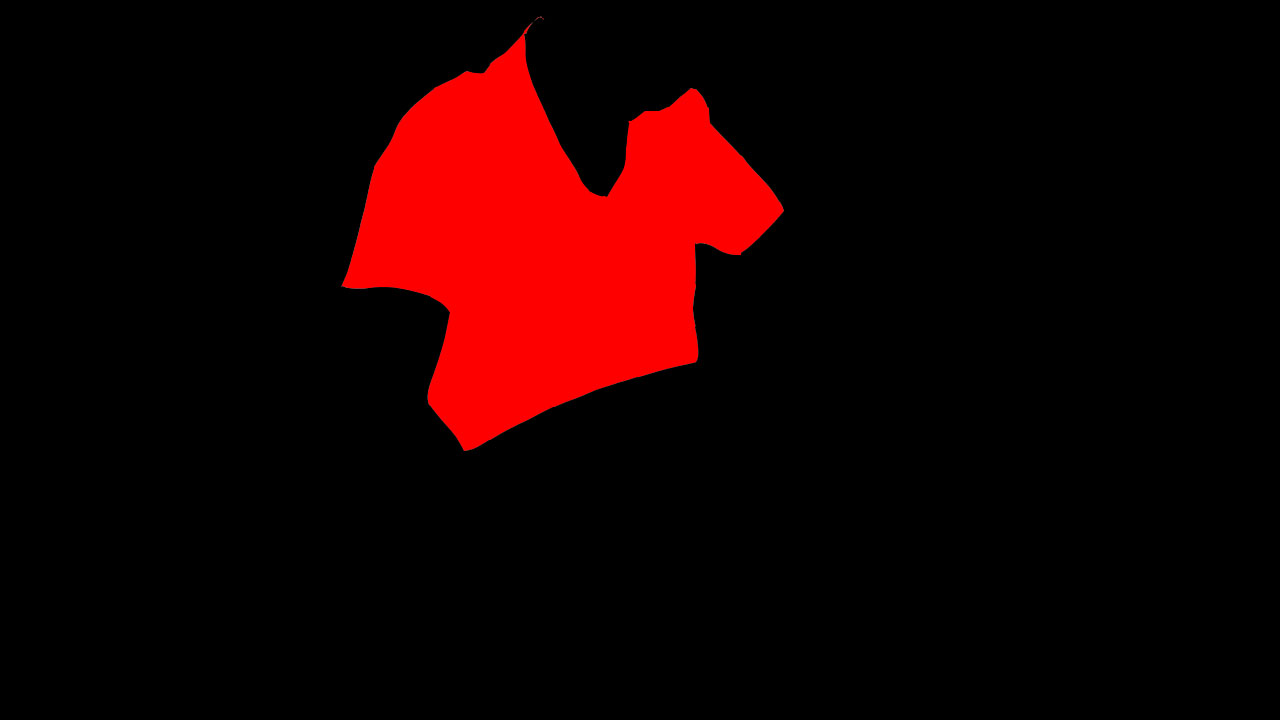uniforme_ifmt: (353, 58, 794, 456)
